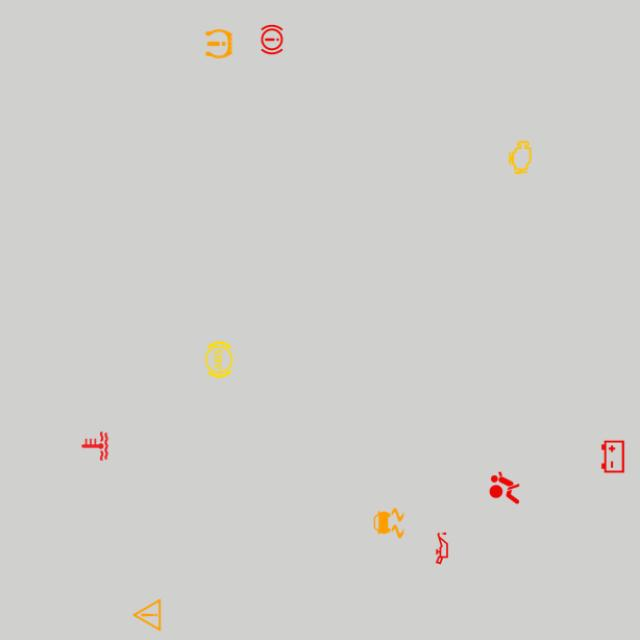Anti Lock Braking System: (199, 340, 239, 379)
Braking System Issue: (252, 20, 292, 59)
Charging System Issue: (593, 437, 633, 476)
Check Engine: (500, 138, 540, 177)
Electronic Stability Problem -ESP-: (369, 504, 409, 543)
Engine Overheating Warning Light: (75, 426, 115, 466)
Low Engine Oil Warning Light: (422, 529, 462, 568)
Low Tire Pressure Warning Light: (199, 24, 239, 64)
Master warning light: (127, 595, 167, 635)
SRS-Airbag: (485, 468, 524, 508)
